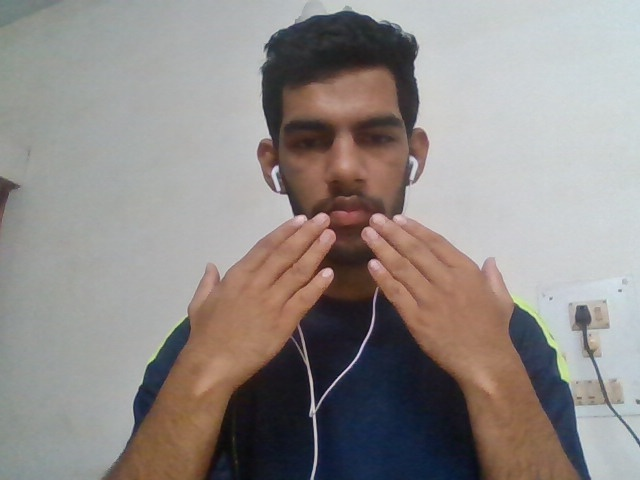thanks: (168, 206, 556, 367)
